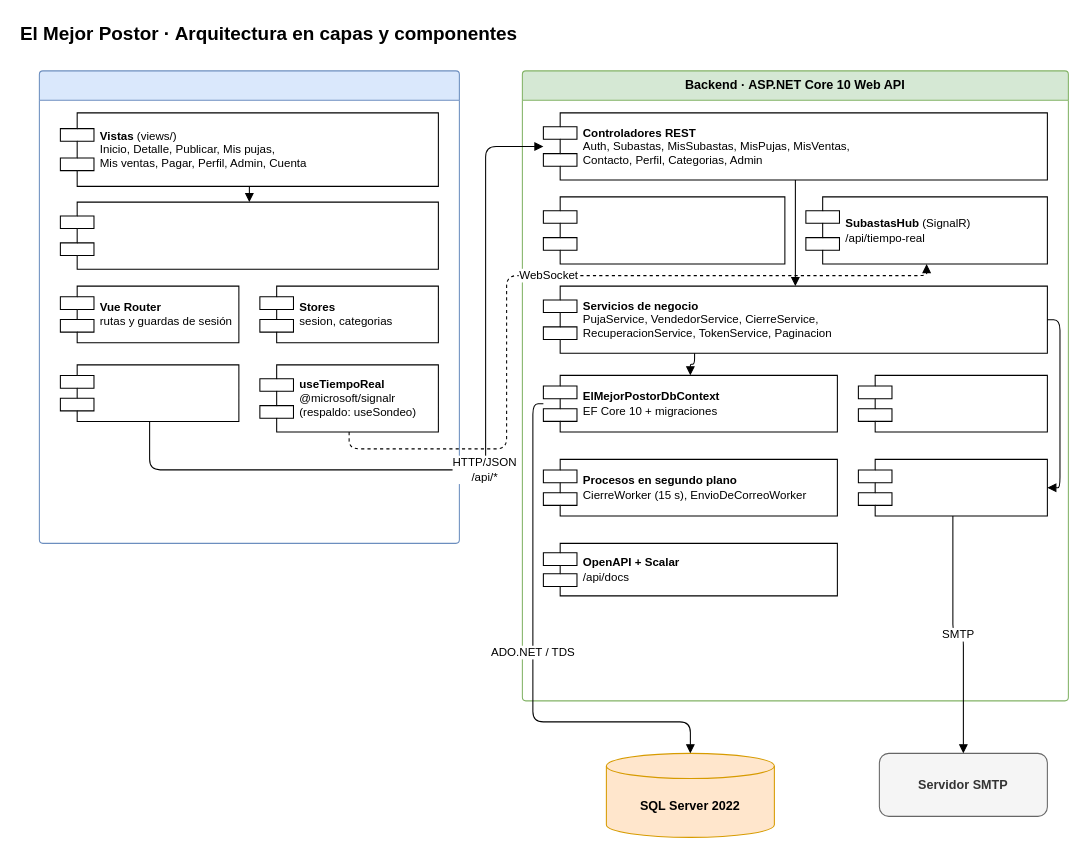
This 1087x856 diagram has some shape labels left out. The shapes that lost their labels are listed below. From the top down, each one's box as (x1, y1, x2, y2) in pixels, then its label:
(59, 201, 438, 269): Componentes SubastaCard, ModalConfirmarPuja, ContadorRegresivo, AppNavbar…
(542, 196, 785, 264): Seguridad JWT + VersionSesion, límite de intentos por IP
(38, 70, 459, 543): Frontend · Vue 3 + Vite + Bootstrap 5 (SPA)
(59, 364, 239, 422): api/cliente.js fetch + token JWT
(857, 374, 1047, 432): wwwroot/fotos archivos subidos
(857, 458, 1047, 516): Avisos / ColaDeCorreo SMTP o consola
